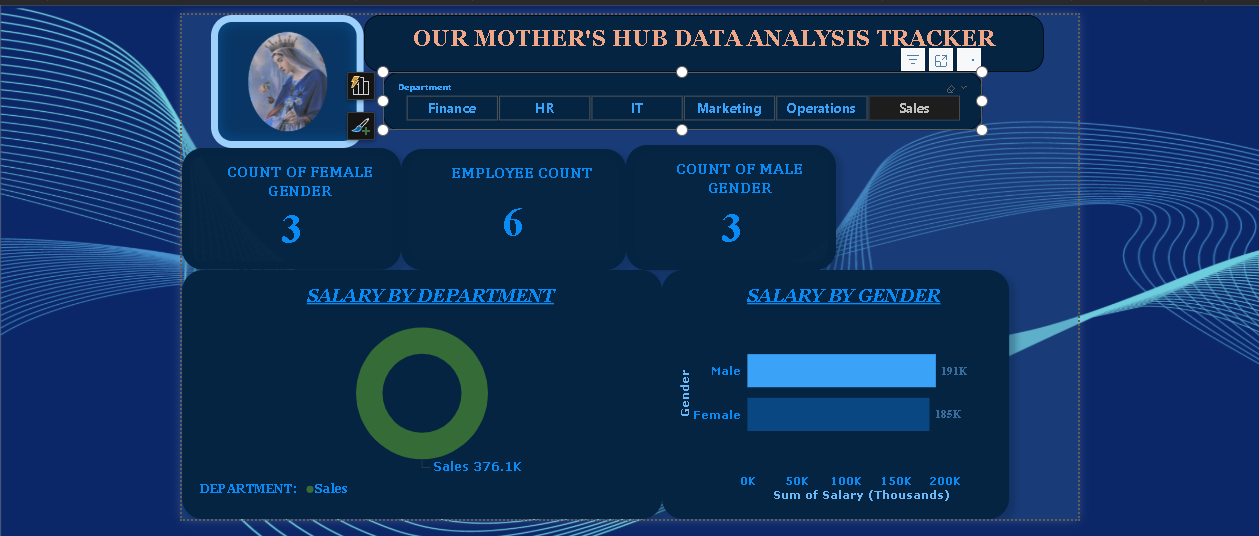

Layout of this report page (visuals, bound fields, positions):
{"tool":"powerbi","page":{"name":"Page REPORT","canvas":[1280,720],"ordinal":0},"visuals":[{"type":"card","title":"EMPLOYEE COUNT","fields":{"Values":["HR_Employee_Data.Measure 2"]},"box":[312.9,190,321.4,174.3],"z":0},{"type":"card","title":" COUNT OF MALE GENDER","fields":{"Values":["Count(HR_Employee_Data)"]},"box":[634.3,185.7,300,178.6],"z":1000},{"type":"card","title":" COUNT OF FEMALE GENDER","fields":{"Values":["Count(HR_Employee_Data)"]},"box":[0,190,312.9,174.3],"z":2000},{"type":"textbox","box":[260,0,971.4,81.4],"z":3000},{"type":"image","box":[41.7,0,218.3,190],"z":4000},{"type":"donutChart","title":"SALARY BY DEPARTMENT","fields":{"Y":["Sum(HR_Employee_Data.Salary)"],"Category":["HR_Employee_Data.Department"]},"box":[0,364.3,685.7,355.7],"z":5000},{"type":"clusteredBarChart","title":"SALARY BY GENDER","fields":{"Y":["Sum(HR_Employee_Data.Salary)"],"Category":["HR_Employee_Data.Gender"]},"box":[685.7,364.3,495.7,355.7],"z":6000},{"type":"slicer","fields":{"Values":["HR_Employee_Data.Department"]},"box":[287.1,81.4,855.7,82.9],"z":7000}]}

Visuals, with their boxes on the page's 1280x720 design canvas (x1, y1, x2, y2). These are canvas units, not pixel positions in the 1259x536 screenshot, which may show the page scaled, cropped or inside an application window:
"EMPLOYEE COUNT" card: region(313, 190, 634, 364)
" COUNT OF MALE GENDER" card: region(634, 186, 934, 364)
" COUNT OF FEMALE GENDER" card: region(0, 190, 313, 364)
textbox: region(260, 0, 1231, 81)
image: region(42, 0, 260, 190)
"SALARY BY DEPARTMENT" donutChart: region(0, 364, 686, 720)
"SALARY BY GENDER" clusteredBarChart: region(686, 364, 1181, 720)
slicer - HR_Employee_Data.Department: region(287, 81, 1143, 164)
